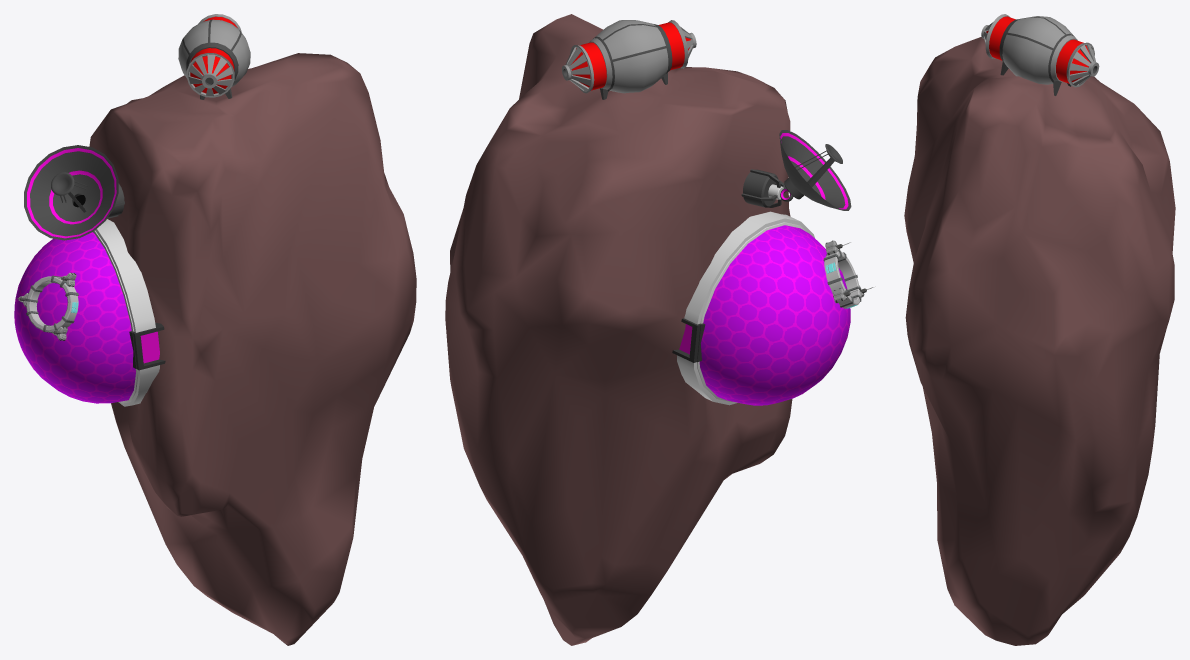
The model's file is PodBase_04.fbx.
The picture shows the model from 3 angles, left to right: view 1: azimuth 30°, elevation 25°; view 2: azimuth 150°, elevation 25°; view 3: azimuth 270°, elevation 25°; orthographic projection. The views are drawn at different scales.
Parts seen in each view (by area): view 1: SM_Env_Astroid_04, DomeSphere_01, Antenna_06, DualEnded_06, DomeGate_01, RingGate_01; view 2: SM_Env_Astroid_04, DomeSphere_01, DualEnded_06, Antenna_06, DomeGate_01, RingGate_01; view 3: SM_Env_Astroid_04, DualEnded_06.
Part boxes in pixels (x1,y1,x2,y2): SM_Env_Astroid_04: (89,53,416,645); DomeSphere_01: (14,232,135,403); Antenna_06: (24,145,124,240); DualEnded_06: (178,14,250,99); DomeGate_01: (93,219,165,406); RingGate_01: (16,272,78,340); SM_Env_Astroid_04: (445,14,792,645); DomeSphere_01: (699,225,850,405); DualEnded_06: (562,20,696,99); Antenna_06: (741,130,851,210); DomeGate_01: (672,211,814,405); RingGate_01: (823,240,873,308); SM_Env_Astroid_04: (904,37,1175,645); DualEnded_06: (981,14,1099,95).
Bounding box in the file's own units: 476 × 752 × 307.
